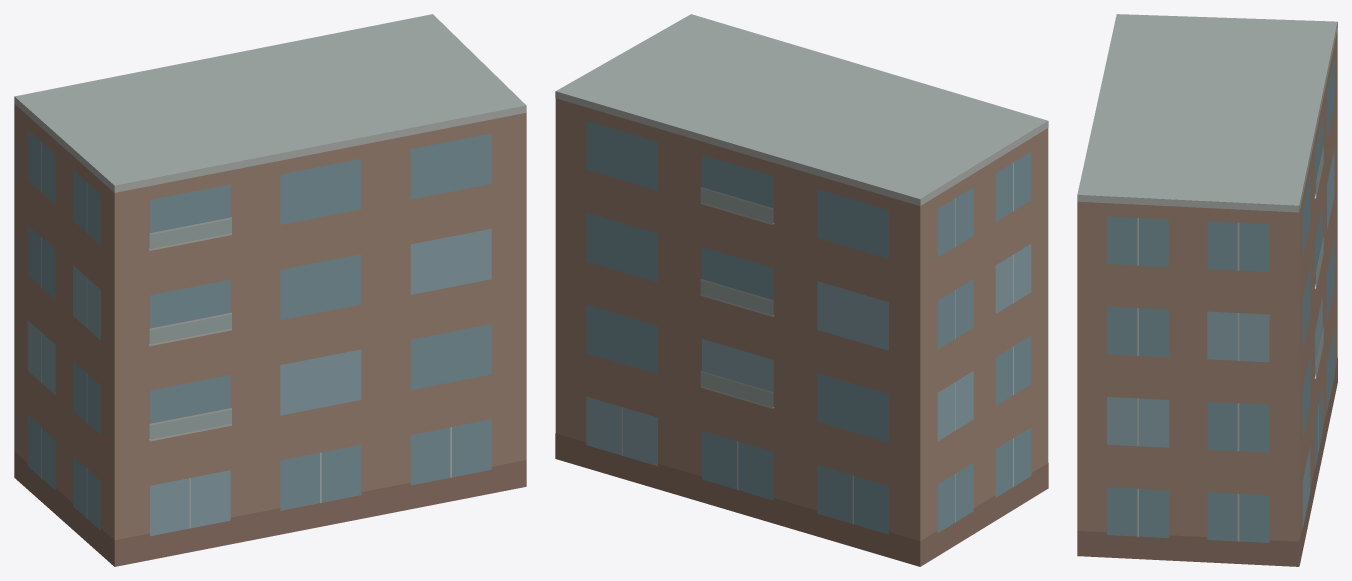
Rendered from survey-upis-33025931.glb.
The picture shows the model from 3 angles, left to right: view 1: azimuth 30°, elevation 25°; view 2: azimuth 150°, elevation 25°; view 3: azimuth 270°, elevation 25°; orthographic projection. The views are drawn at different scales.
Parts seen in each view (by area): view 1: survey-upis-33025931.tmp; view 2: survey-upis-33025931.tmp; view 3: survey-upis-33025931.tmp.
Boxes of the visible parts, x1,y1,x2,y2 form: survey-upis-33025931.tmp: (14,14,526,566); survey-upis-33025931.tmp: (555,14,1048,566); survey-upis-33025931.tmp: (1077,14,1337,566).
Size of the model in its own units: 14.69 by 12.9 by 8.44.
